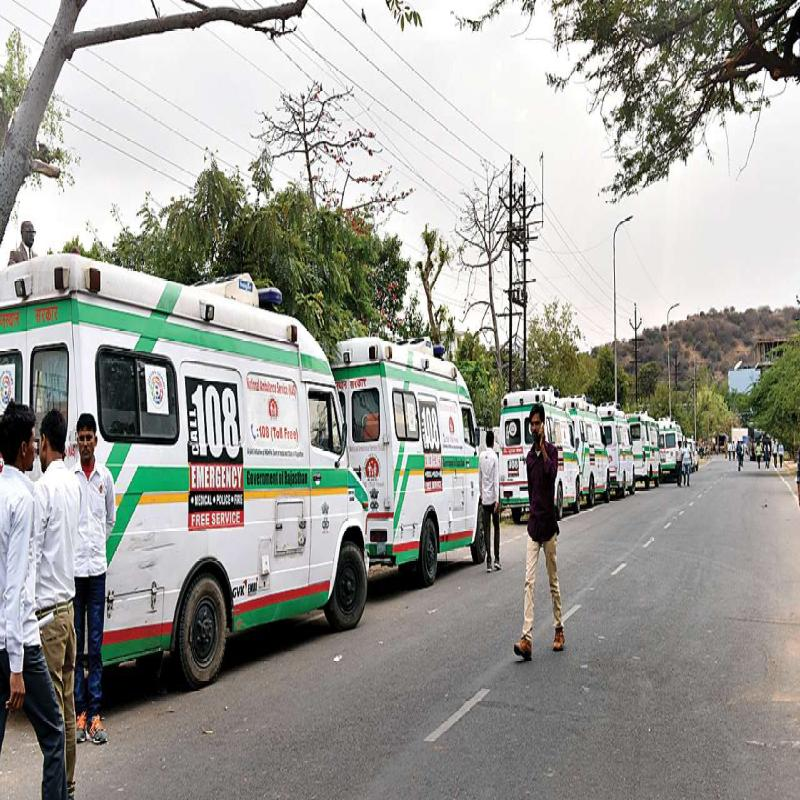ambulance: (9, 280, 344, 622), (360, 343, 480, 572)
